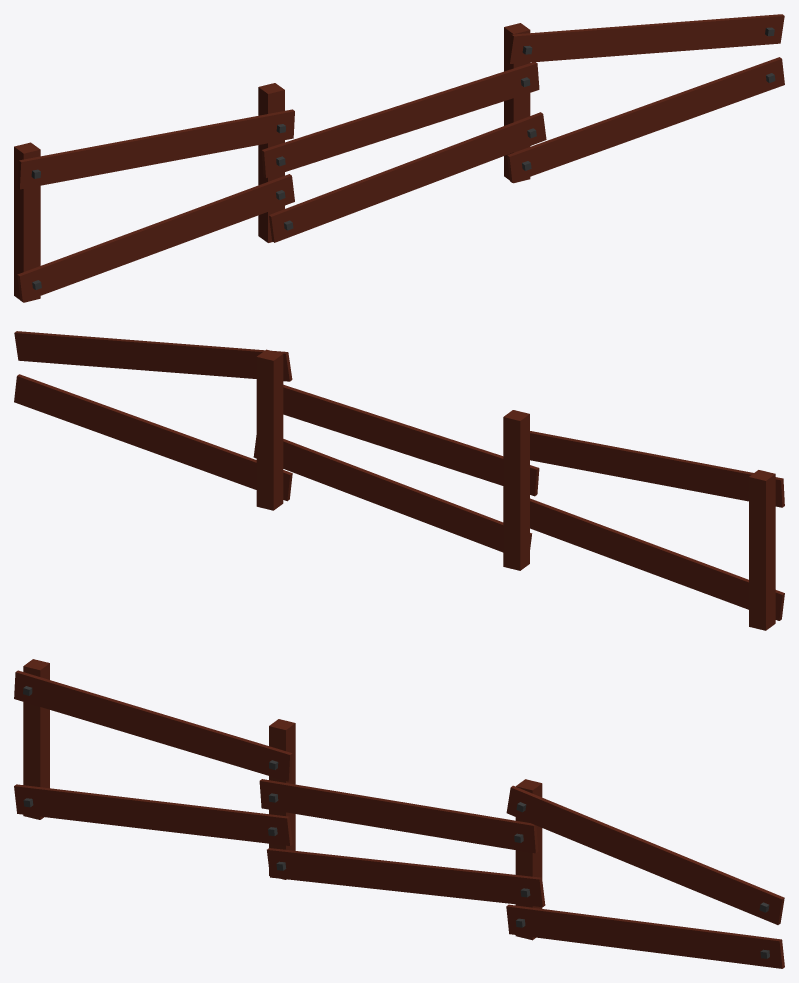
File: Fence_Brown_Large.fbx
3 renders of one model, top to bottom at view 1: azimuth 30°, elevation 25°; view 2: azimuth 150°, elevation 25°; view 3: azimuth 330°, elevation 25°, orthographic.
Parts seen in each view (by area): view 1: vallasC3; view 2: vallasC3; view 3: vallasC3.
Boxes of the visible parts, x1=… form: vallasC3: x1=14, y1=14, x2=784, y2=302; vallasC3: x1=14, y1=331, x2=784, y2=630; vallasC3: x1=14, y1=659, x2=784, y2=968.
Size of the model in its own units: 648 by 121 by 22.8.
